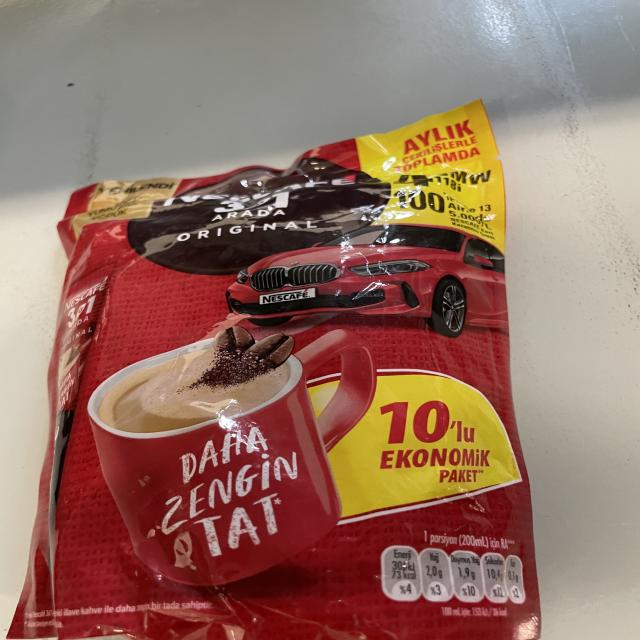object_name: (59, 147, 525, 640)
